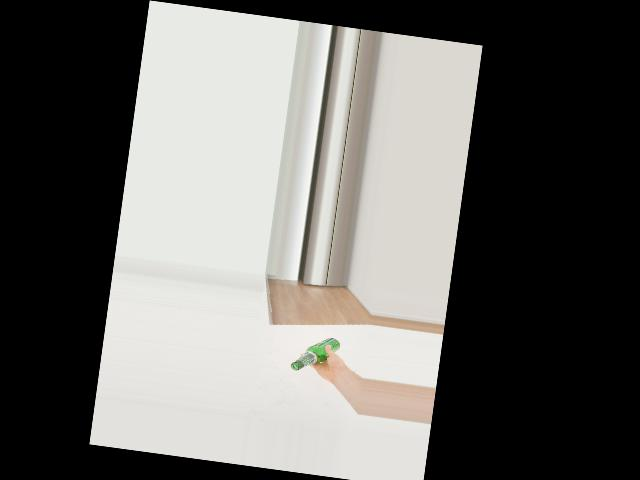beer: (289, 333, 341, 376)
